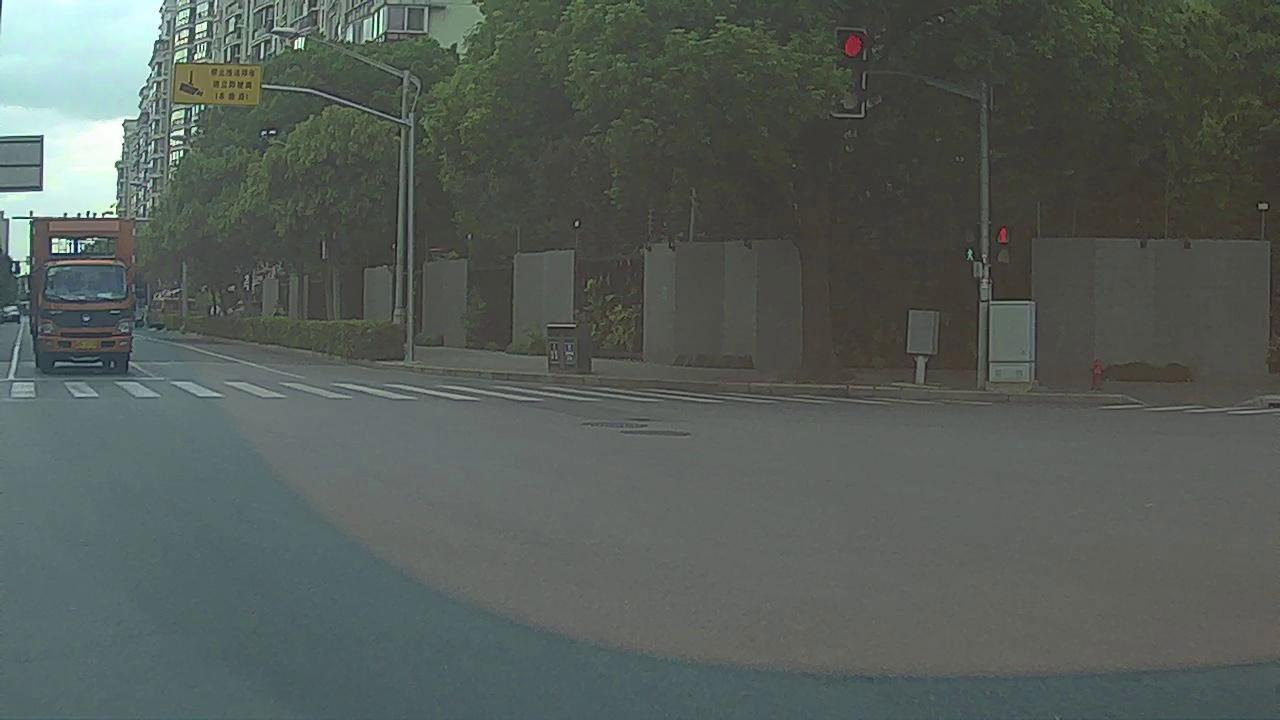traffic_light: (838, 29, 867, 113)
